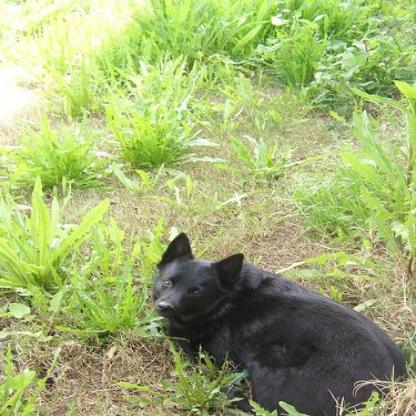schipperke: (147, 224, 407, 414)
